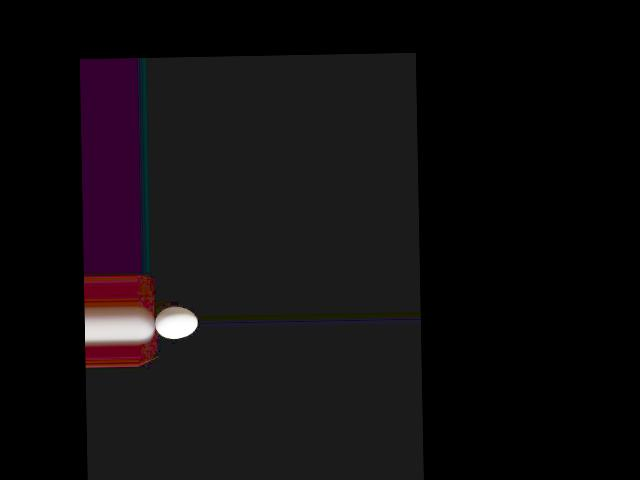egg: (154, 307, 197, 339)
